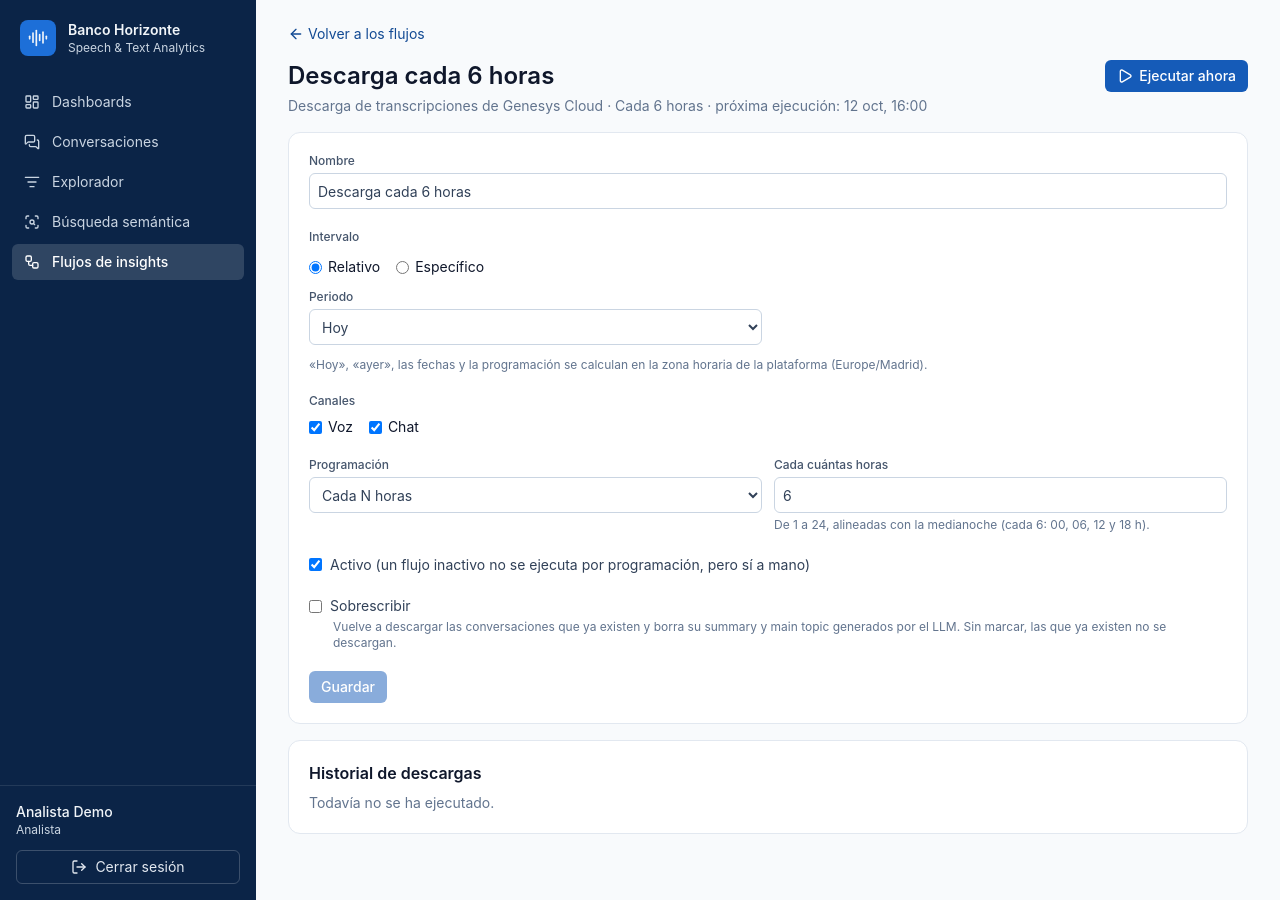
Test: Flujos de descarga: formulario › desmarcar y volver a marcar un canal no cuenta como cambio
Expected: the field labelled "Nombre" is shown, 309,173 -> 1227,209
Click the checkbox labelled "Voz": (316, 427) 309,420 -> 322,434
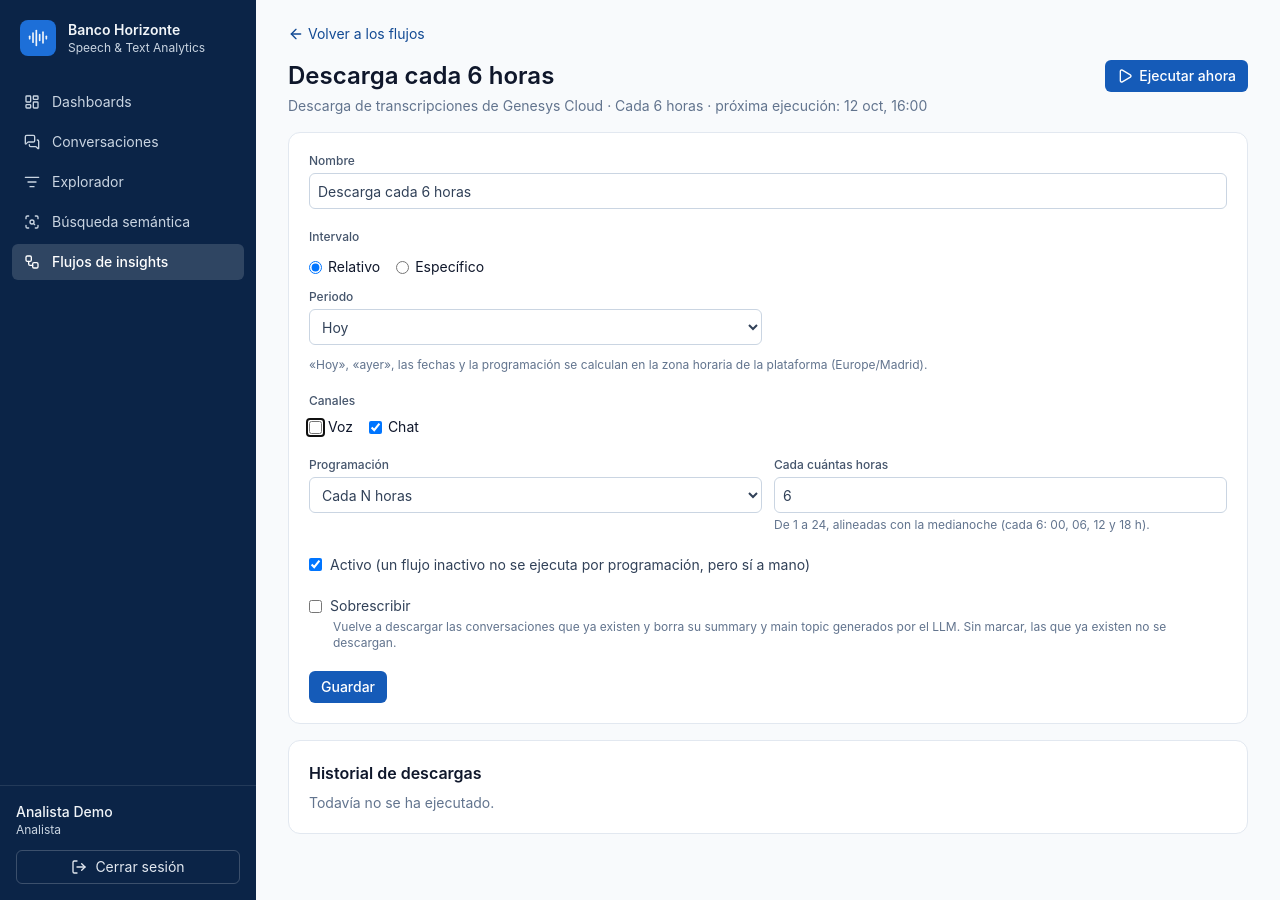
Now the button "Guardar" is enabled, box 309,670 -> 387,702
Click the checkbox labelled "Voz": (316, 427) 309,420 -> 322,434
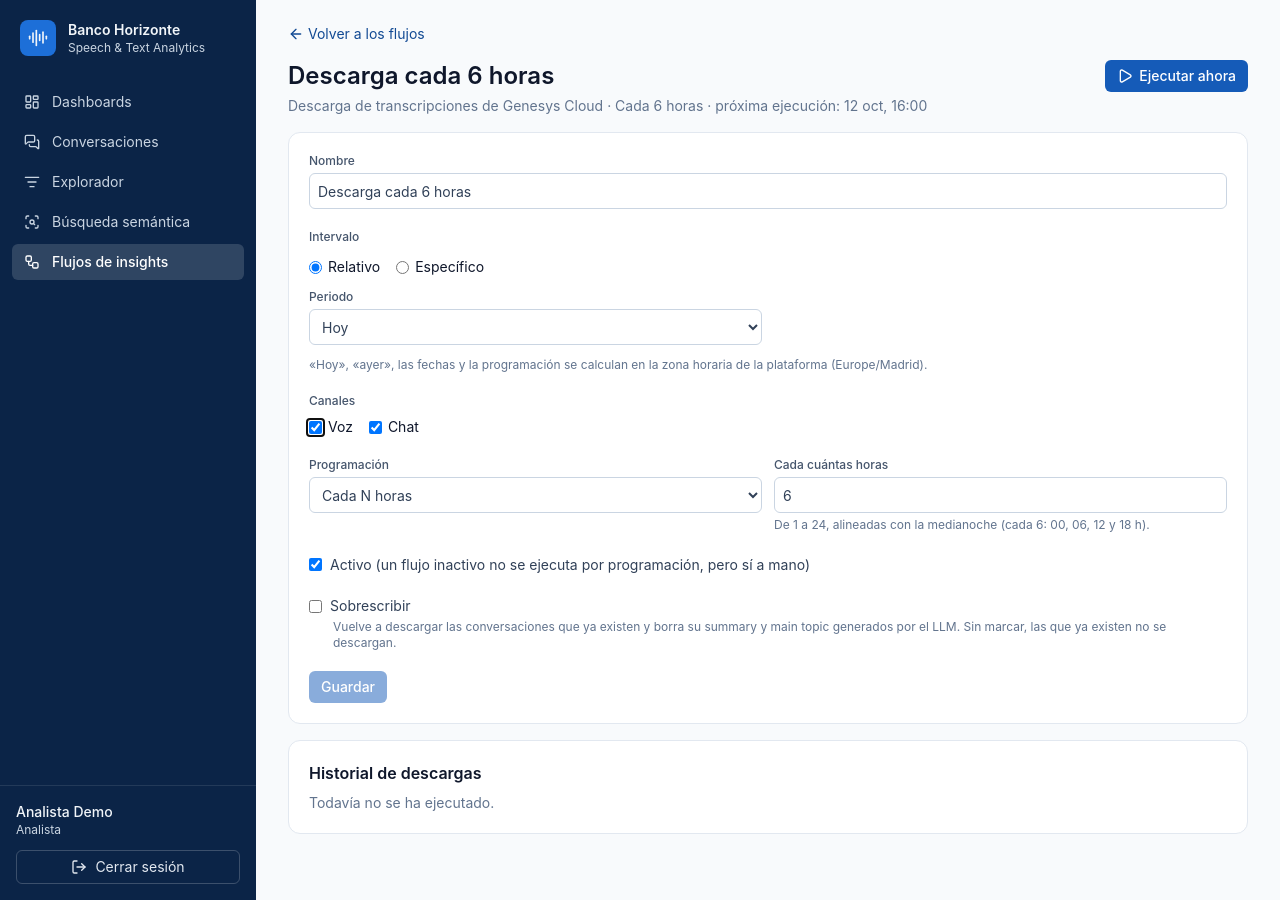
Now the button "Guardar" is disabled, box 309,670 -> 387,702
